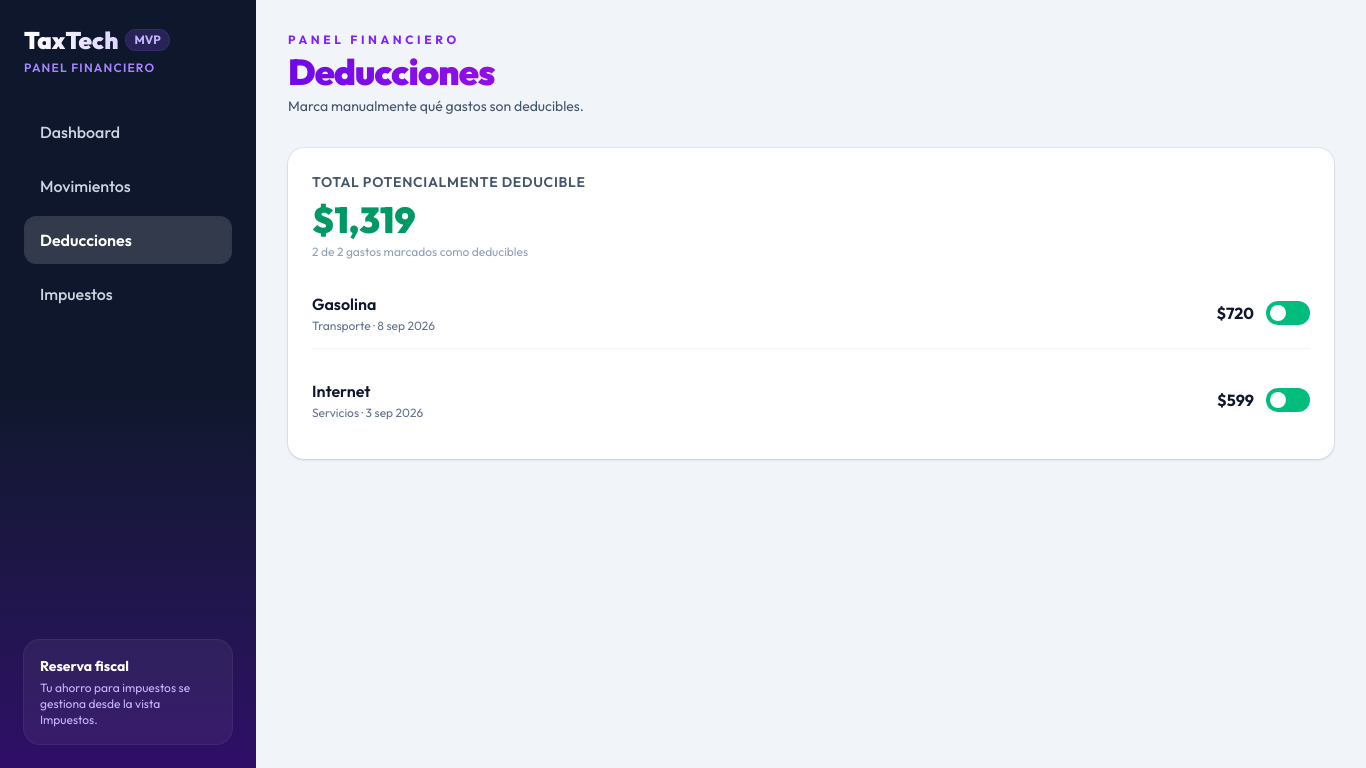
Deducciones › alterna deducible y actualiza el total en vivo
expect the text "$1,319" is shown: met, box [312,197,416,242]
Click the switch named "Marcar Gasolina como deducible". click: click(1288, 313)
box: [1266,301,1310,325]
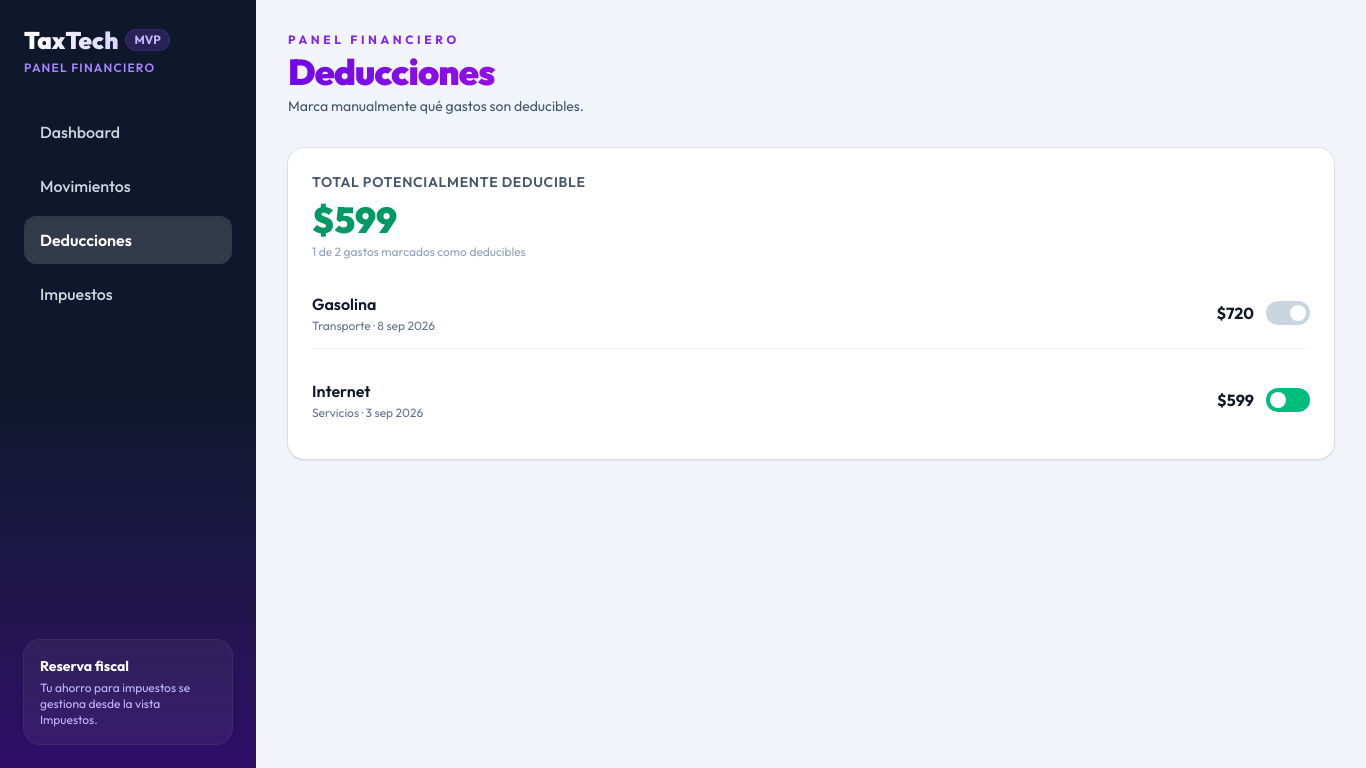
expect the text "$1,319" is gone: met
expect the text "1 de 2 gastos marcados como deducibles" is shown: met, box [312,244,526,259]
